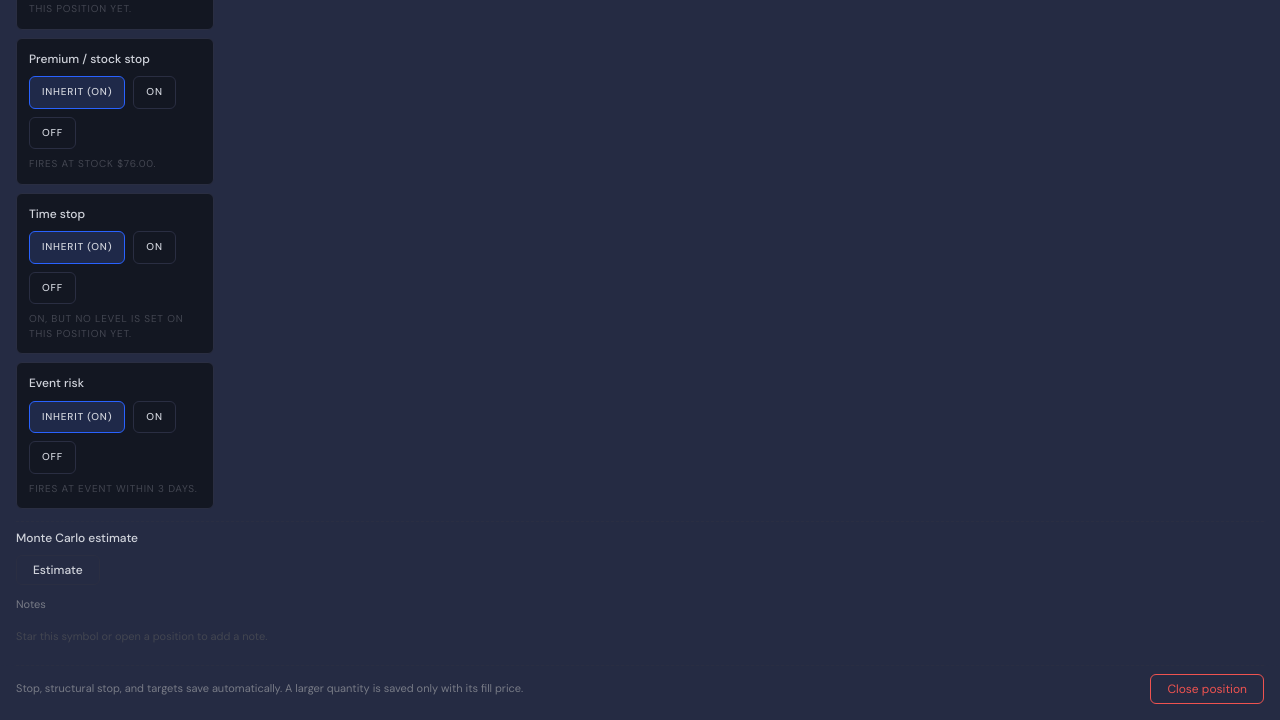
EditDrawer Monte Carlo estimate › keeps Estimate enabled for a winning stock position that has already cleared its first target
(page scrolled)
Click the button "Estimate": point(58, 570) top-left (16, 555), bottom-right (100, 585)
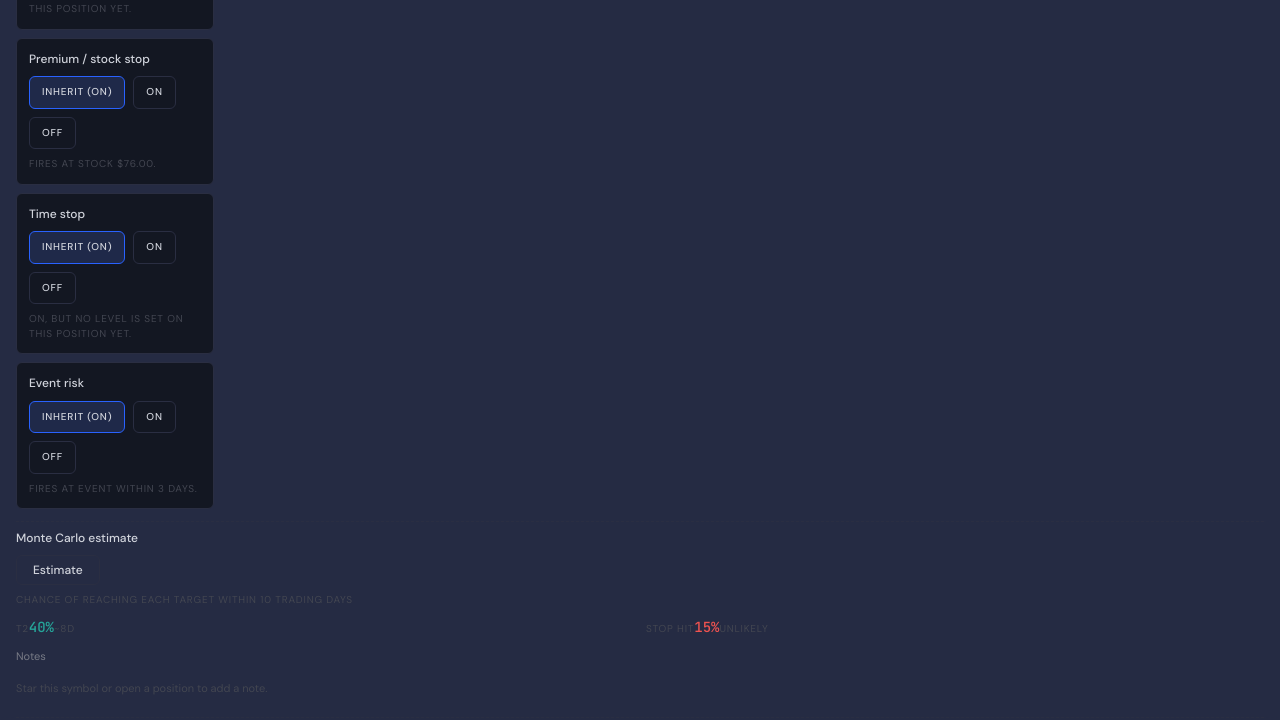
Expected: the text "T2" is shown 2 times
